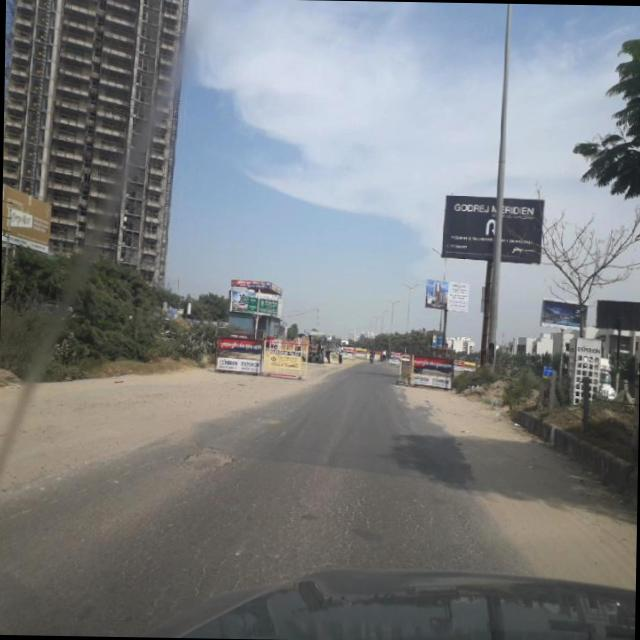crack: (20, 442, 538, 620)
pothole: (168, 434, 246, 478)
